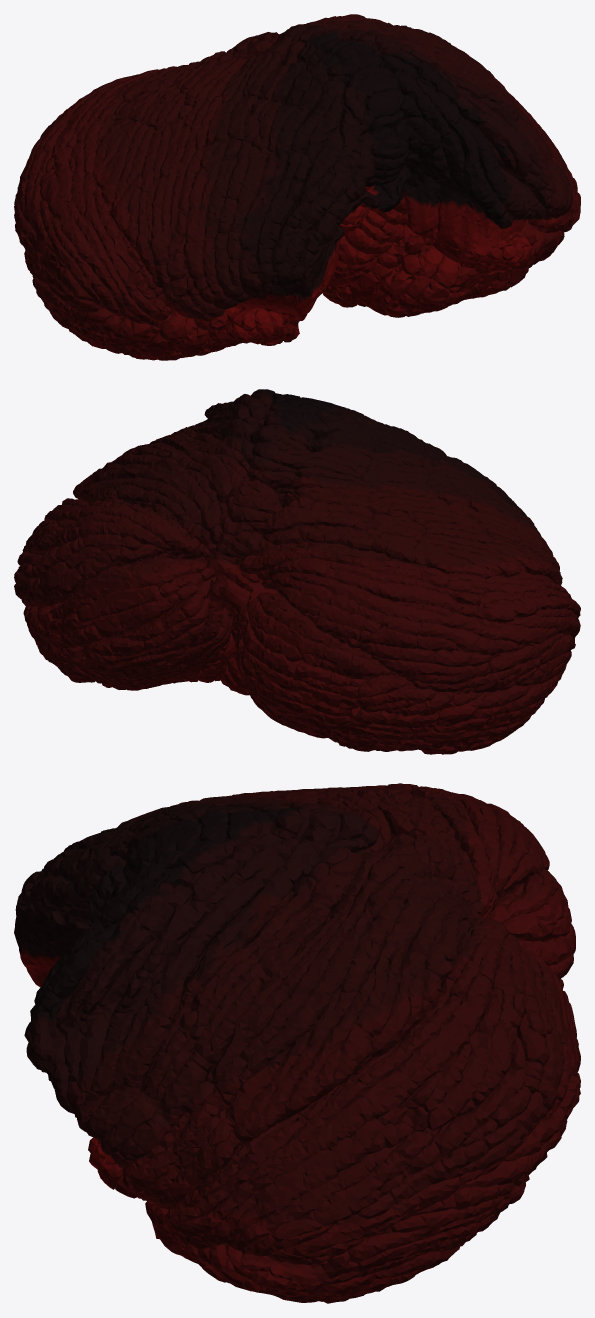
Rendered from cerebelo_sereno_folhas.glb.
3 views of the same model, one above another, from view 1: azimuth 30°, elevation 25°; view 2: azimuth 150°, elevation 25°; view 3: azimuth 270°, elevation 25° (orthographic). The views are drawn at different scales.
Visible parts, largest first — view 1: cerebelo_sereno; view 2: cerebelo_sereno; view 3: cerebelo_sereno.
Boxes of the visible parts, x1,y1,x2,y2 form: cerebelo_sereno: (14,14,580,360); cerebelo_sereno: (14,389,580,754); cerebelo_sereno: (14,783,580,1303).
Bounding box in the file's own units: 11.4 × 5.98 × 7.94.
